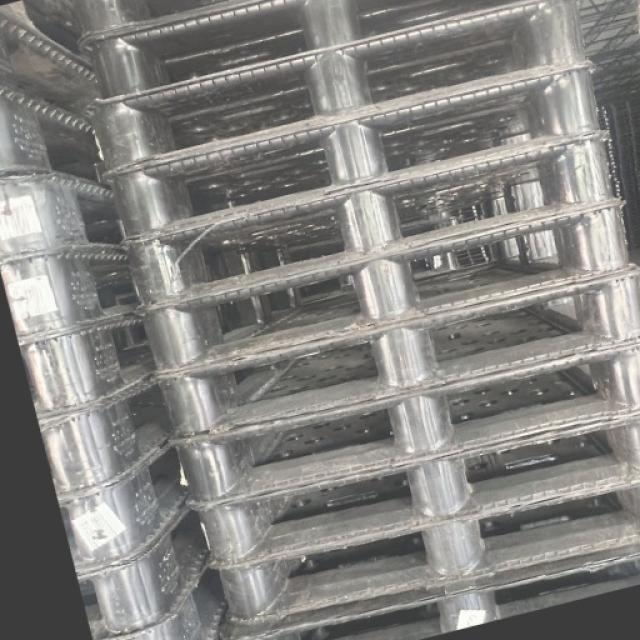igps: (109, 118, 632, 328), (97, 49, 618, 256), (127, 179, 638, 390), (77, 0, 600, 192), (146, 252, 640, 455), (159, 323, 639, 520), (179, 390, 640, 580), (199, 460, 640, 631), (73, 0, 565, 115), (54, 425, 200, 592), (30, 362, 182, 521), (11, 292, 172, 439), (72, 480, 217, 639), (0, 232, 152, 360), (86, 544, 233, 640), (65, 0, 278, 59)
